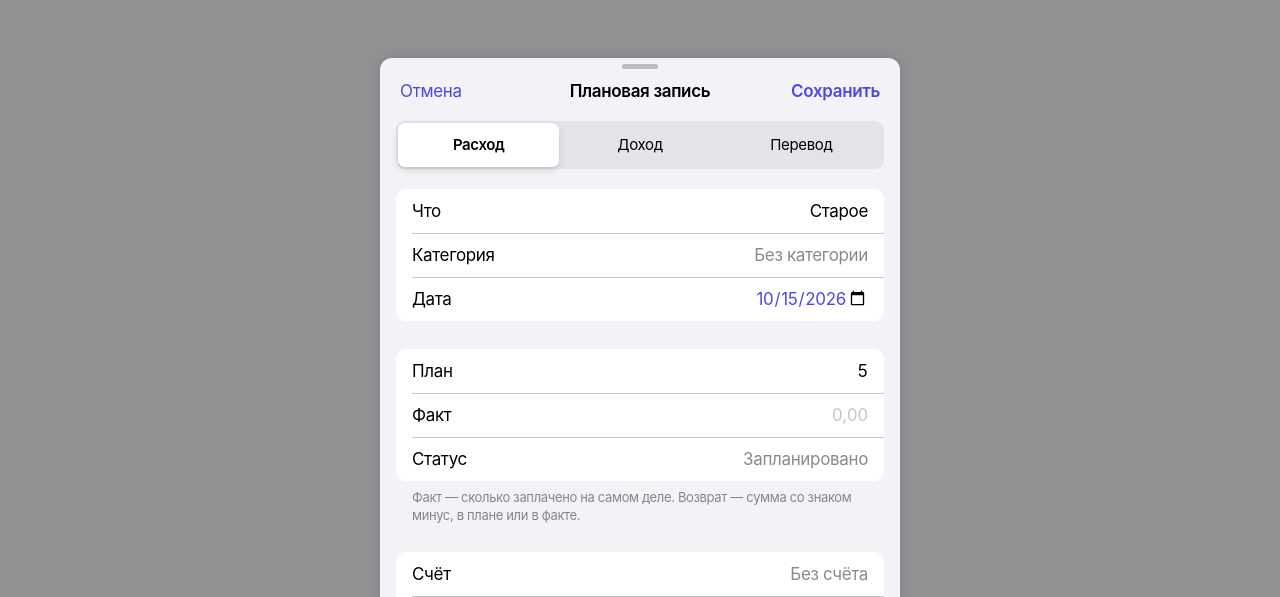
it: a date outside the accounting year › a stored accounting month outside the year does not count (the engine goes by the date): the date decides
The width and height of the screenshot is (1280, 597).
In the date field labelled "Дата": point(666, 299) [464,277,868,321], type "2025-12-15"
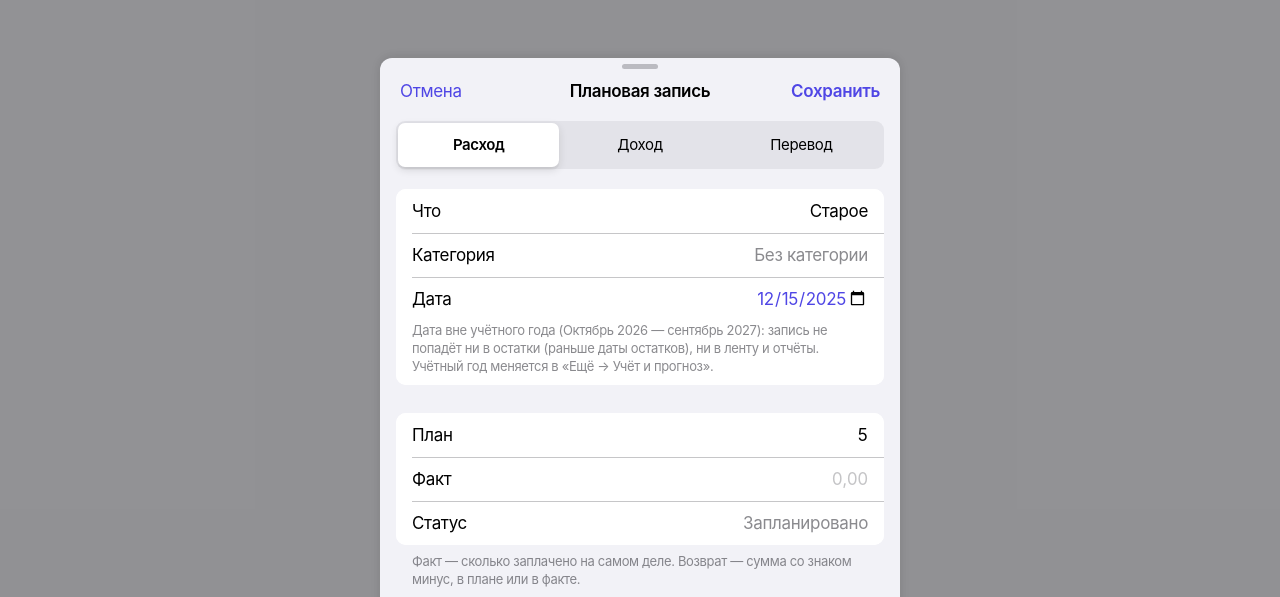
Expected: the text "Дата вне учётного года (Октябрь 2026 — сентябрь 2027): запись не попадёт ни в остатки (раньше даты остатков), ни в ленту" is shown, [412,322,827,374]
